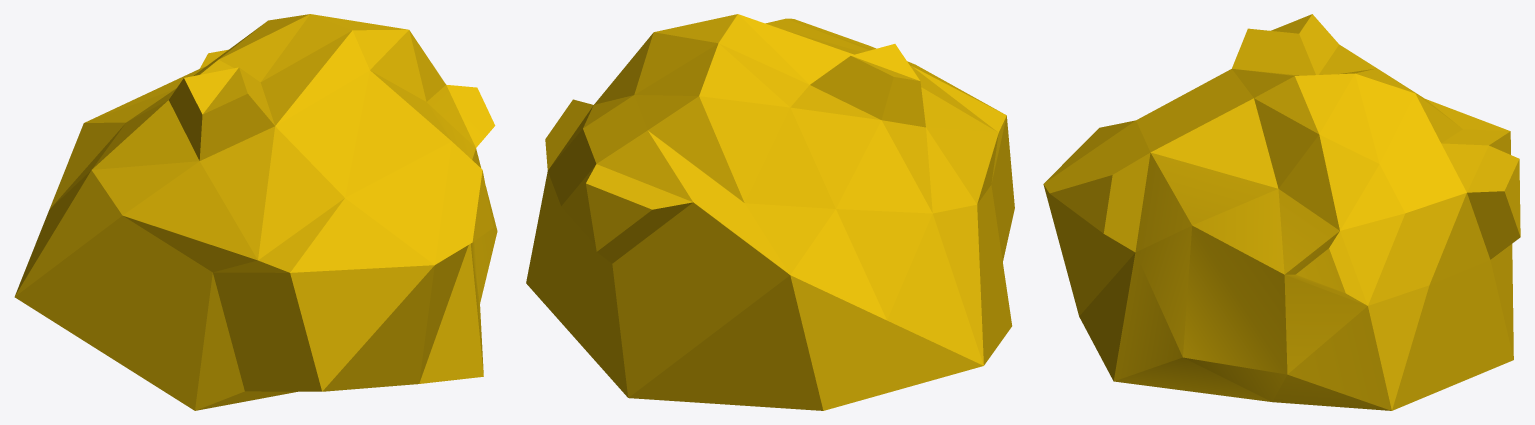
The model's file is Gold3.fbx.
3 renders of one model, left to right at view 1: azimuth 30°, elevation 25°; view 2: azimuth 150°, elevation 25°; view 3: azimuth 270°, elevation 25°, orthographic. The views are drawn at different scales.
Visible parts, largest first — view 1: Rock3; view 2: Rock3; view 3: Rock3.
Part boxes in pixels (x1,y1,x2,y2): Rock3: (14,14,497,410); Rock3: (526,14,1014,410); Rock3: (1043,14,1520,410).
Size of the model in its own units: 92.72 by 57.24 by 86.35.
